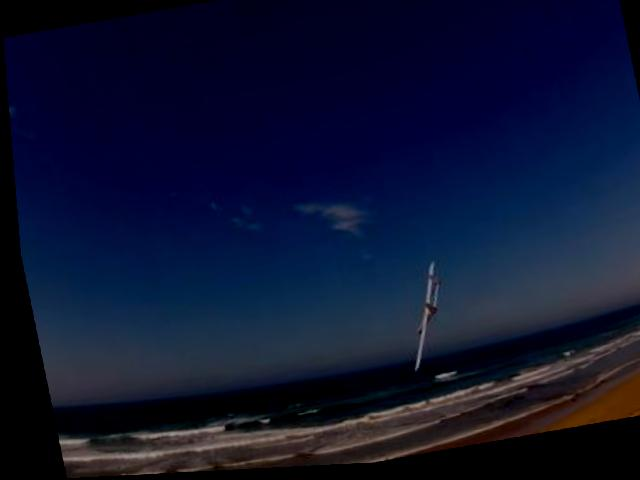uav: (384, 263, 448, 376)
